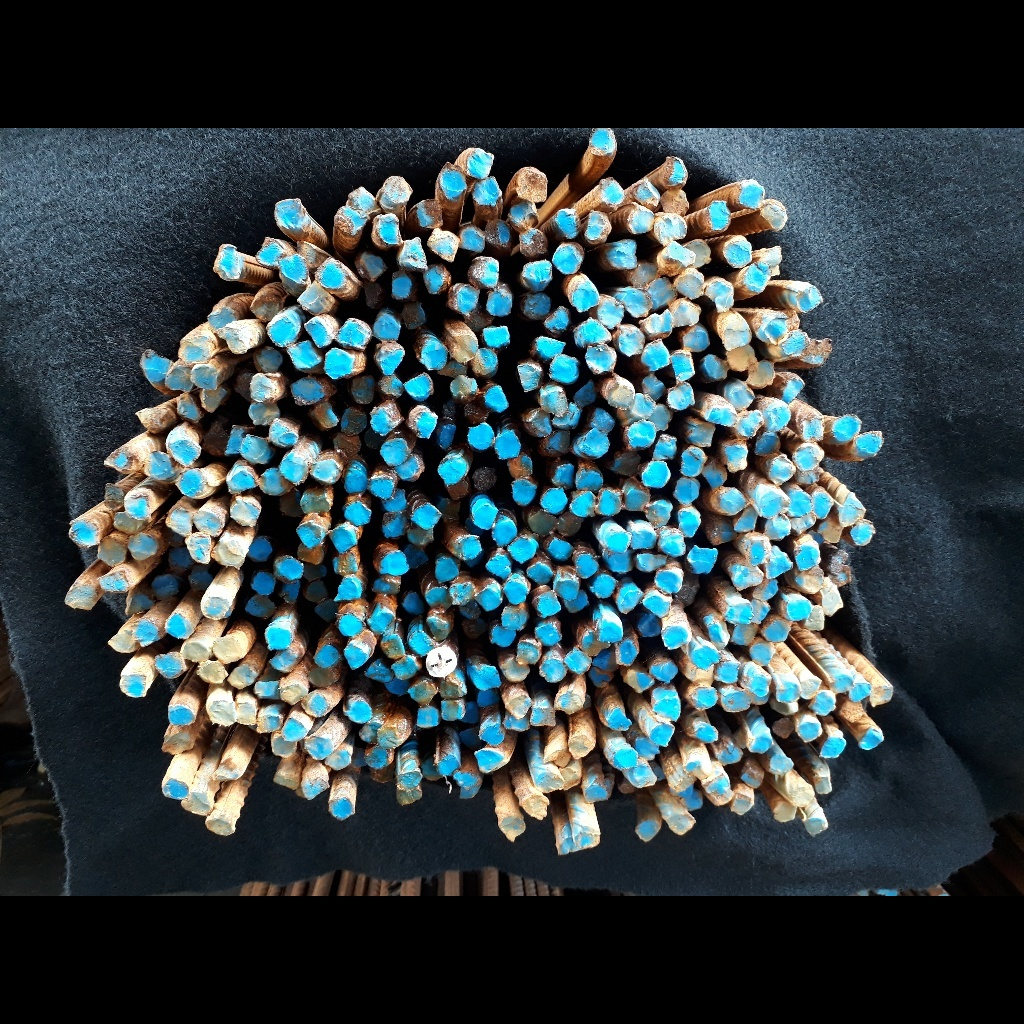dipstick: (215, 322, 257, 354), (296, 281, 335, 314), (209, 244, 243, 281), (335, 316, 372, 350), (657, 244, 697, 274), (427, 229, 460, 262), (605, 376, 635, 412), (175, 469, 212, 498), (140, 350, 170, 385), (286, 341, 322, 370), (574, 320, 612, 347), (568, 279, 600, 311), (705, 398, 738, 429), (397, 237, 428, 270), (266, 313, 297, 346), (763, 545, 793, 579), (517, 169, 547, 203), (381, 176, 416, 205), (757, 311, 788, 343), (470, 177, 502, 208), (428, 230, 459, 262), (274, 199, 305, 231), (549, 353, 579, 386), (317, 260, 347, 293), (138, 408, 175, 434), (674, 269, 705, 300), (522, 259, 553, 290), (184, 533, 215, 564), (654, 215, 686, 245), (705, 280, 735, 312), (607, 240, 639, 270), (578, 428, 610, 458), (291, 377, 324, 406), (617, 288, 651, 316), (538, 386, 568, 417), (373, 214, 403, 245), (170, 437, 201, 467), (639, 311, 671, 340), (552, 245, 584, 274), (418, 338, 447, 370), (618, 324, 645, 358), (596, 298, 626, 328), (438, 455, 468, 485), (146, 451, 177, 480), (124, 489, 153, 520), (669, 351, 697, 383), (304, 316, 332, 348), (584, 345, 617, 372), (293, 241, 326, 268), (277, 256, 310, 283), (800, 413, 829, 443), (626, 759, 655, 789), (509, 202, 539, 231), (519, 790, 549, 819), (427, 649, 457, 678), (689, 545, 717, 576), (614, 583, 642, 614), (584, 212, 612, 243), (473, 257, 501, 288), (178, 337, 209, 365), (259, 468, 290, 496), (706, 202, 733, 234), (732, 411, 764, 438), (274, 554, 306, 581), (577, 630, 610, 656), (534, 334, 568, 359), (641, 341, 670, 370), (465, 147, 494, 176), (256, 238, 285, 267), (279, 455, 308, 484), (740, 265, 770, 293), (831, 413, 861, 441), (702, 353, 730, 383), (555, 210, 583, 240), (532, 592, 562, 620), (508, 536, 538, 564), (336, 206, 364, 236), (231, 497, 259, 527), (760, 402, 791, 429), (745, 361, 776, 388), (193, 509, 224, 536), (296, 522, 327, 549), (228, 467, 260, 493), (406, 680, 439, 705), (730, 564, 764, 588), (625, 206, 654, 234), (628, 419, 656, 448), (644, 501, 673, 529), (520, 228, 548, 257), (523, 408, 552, 436), (528, 508, 557, 536), (440, 167, 468, 196), (330, 525, 358, 554), (725, 237, 752, 267), (803, 340, 833, 367), (517, 362, 544, 392), (325, 349, 352, 379), (242, 437, 272, 464), (380, 440, 410, 467), (127, 533, 157, 560), (723, 383, 754, 409), (669, 301, 700, 327), (154, 653, 185, 679), (771, 375, 806, 398), (251, 373, 276, 405), (686, 239, 714, 267), (853, 429, 881, 457), (458, 226, 486, 254), (166, 366, 194, 394), (367, 605, 395, 633), (661, 161, 690, 188), (781, 330, 808, 359), (722, 322, 751, 349), (451, 334, 478, 363), (484, 220, 511, 249), (254, 346, 283, 373), (334, 575, 363, 602), (727, 345, 757, 371), (471, 664, 501, 690), (495, 428, 521, 458), (755, 249, 786, 274), (681, 447, 706, 478), (161, 732, 196, 754), (107, 449, 139, 473), (643, 462, 671, 489), (623, 485, 651, 512), (628, 522, 656, 549), (455, 535, 483, 562), (470, 347, 497, 375), (423, 267, 451, 294), (357, 254, 384, 282), (191, 364, 219, 391), (167, 508, 194, 536), (252, 570, 279, 598), (270, 645, 298, 672), (794, 445, 823, 471), (648, 279, 674, 308), (483, 385, 509, 414), (347, 189, 376, 215), (374, 313, 400, 342), (525, 560, 555, 585), (350, 376, 375, 406), (380, 551, 410, 576), (722, 600, 753, 624), (164, 614, 195, 638), (594, 489, 621, 516), (554, 402, 581, 429), (99, 539, 126, 566), (662, 191, 690, 217), (794, 567, 822, 593), (565, 646, 591, 674), (522, 293, 550, 319), (403, 374, 431, 400), (417, 199, 443, 227), (377, 348, 405, 374), (723, 443, 748, 472), (447, 582, 476, 607), (310, 404, 339, 429), (365, 660, 394, 685), (597, 178, 627, 202), (449, 375, 479, 399), (201, 596, 231, 620), (678, 509, 701, 540), (624, 669, 655, 692), (767, 458, 794, 484), (838, 499, 865, 525), (689, 423, 716, 449), (732, 620, 758, 647), (649, 722, 676, 748), (628, 393, 655, 419), (589, 409, 615, 436), (547, 427, 574, 453), (491, 519, 517, 546), (435, 557, 461, 584), (468, 423, 494, 450), (133, 619, 160, 645), (208, 699, 235, 725), (282, 716, 309, 742), (682, 326, 710, 351), (200, 387, 228, 412), (269, 421, 297, 446), (278, 578, 303, 606), (591, 575, 620, 599), (605, 549, 634, 573), (251, 296, 280, 320), (372, 408, 396, 437), (214, 638, 243, 662), (629, 265, 659, 288), (858, 724, 884, 750), (662, 624, 688, 650), (540, 488, 566, 514), (502, 577, 528, 603), (487, 290, 513, 316), (470, 467, 496, 493), (849, 519, 874, 546), (668, 385, 695, 410), (674, 480, 699, 507), (573, 826, 600, 851), (500, 816, 527, 841), (797, 286, 825, 310), (745, 537, 769, 565), (643, 593, 671, 617), (500, 606, 528, 630), (177, 394, 201, 422), (300, 492, 332, 513), (501, 657, 530, 680), (412, 505, 441, 528), (820, 586, 842, 616), (709, 521, 739, 543), (612, 453, 642, 475), (249, 403, 279, 425), (98, 572, 128, 594), (305, 737, 335, 759), (740, 184, 766, 209), (762, 202, 787, 228), (786, 492, 812, 517), (760, 494, 786, 519), (701, 462, 727, 487), (721, 688, 747, 713), (670, 811, 696, 836), (400, 305, 426, 330), (341, 409, 366, 435), (153, 573, 178, 599), (169, 549, 195, 574), (343, 642, 368, 668), (588, 131, 615, 155), (795, 542, 819, 569), (809, 691, 836, 715), (765, 516, 792, 540), (755, 433, 782, 457), (707, 623, 731, 650), (655, 570, 682, 594), (655, 433, 679, 460), (616, 640, 640, 667), (605, 707, 632, 731), (572, 383, 599, 407), (575, 552, 599, 579), (535, 622, 562, 646), (539, 659, 566, 683), (425, 583, 449, 610), (513, 479, 537, 506), (377, 375, 404, 399), (341, 471, 365, 498), (344, 502, 371, 526), (219, 540, 246, 564), (120, 675, 147, 699), (163, 777, 190, 801), (825, 545, 848, 573), (596, 620, 624, 643), (416, 411, 439, 439), (228, 665, 256, 688), (818, 736, 847, 758), (474, 749, 503, 771), (489, 625, 518, 647), (391, 656, 420, 678), (694, 720, 719, 745), (504, 694, 529, 719), (472, 504, 497, 529), (455, 287, 480, 312), (802, 604, 826, 630), (786, 597, 812, 621), (669, 773, 693, 799), (654, 696, 680, 720), (658, 533, 684, 557), (636, 551, 662, 575), (570, 492, 596, 516), (312, 459, 338, 483), (408, 631, 434, 655), (377, 725, 404, 748), (749, 597, 771, 625), (649, 403, 671, 431), (208, 308, 236, 330), (200, 662, 228, 684), (280, 681, 308, 703), (235, 697, 257, 725), (454, 769, 483, 790), (302, 779, 331, 800), (204, 817, 236, 836), (691, 644, 716, 668), (508, 454, 533, 478), (395, 455, 419, 480), (383, 512, 407, 537), (826, 564, 852, 587), (604, 528, 630, 551), (346, 699, 372, 722), (169, 703, 195, 726), (751, 577, 778, 599), (634, 737, 661, 759), (577, 470, 604, 492), (335, 433, 362, 455), (303, 694, 330, 716), (437, 421, 458, 449), (365, 747, 394, 767), (245, 597, 274, 617), (776, 677, 800, 701), (750, 642, 774, 666), (552, 465, 576, 489), (486, 555, 510, 579), (248, 537, 272, 561), (382, 634, 406, 658), (871, 684, 894, 709), (692, 689, 717, 712), (583, 780, 608, 803), (516, 641, 539, 666), (187, 568, 212, 591), (314, 644, 339, 667), (416, 703, 439, 728), (184, 791, 209, 814), (811, 493, 833, 519), (763, 620, 789, 642), (719, 489, 745, 511), (736, 505, 758, 531), (651, 662, 677, 684), (638, 615, 664, 637), (547, 538, 573, 560), (333, 552, 359, 574), (77, 519, 98, 546), (255, 713, 282, 734), (816, 521, 844, 541), (536, 772, 564, 792), (296, 544, 324, 564), (848, 682, 872, 705), (643, 375, 666, 399), (570, 736, 594, 759), (545, 307, 568, 331), (436, 754, 460, 777), (399, 766, 423, 789), (730, 792, 752, 817), (439, 677, 464, 699), (429, 615, 451, 640), (266, 627, 291, 649), (361, 722, 386, 744), (330, 798, 355, 820), (748, 733, 774, 754), (714, 662, 740, 683), (704, 773, 730, 794), (612, 748, 638, 769), (557, 693, 583, 714), (483, 326, 509, 347), (392, 276, 413, 302), (371, 477, 397, 498), (113, 511, 139, 532), (110, 631, 136, 652), (685, 662, 713, 681), (747, 674, 770, 697), (306, 581, 329, 604), (679, 789, 703, 811), (560, 513, 581, 538), (530, 706, 555, 727), (383, 490, 408, 511), (310, 667, 335, 688), (797, 721, 823, 741), (545, 748, 571, 768), (403, 546, 429, 566), (325, 749, 351, 769), (683, 760, 710, 779), (444, 480, 471, 499), (104, 483, 123, 510), (205, 465, 228, 487), (716, 746, 744, 764), (742, 767, 766, 788), (564, 591, 588, 612), (441, 701, 465, 722), (477, 589, 501, 610), (225, 427, 243, 455), (338, 614, 362, 635), (217, 759, 241, 780), (374, 576, 399, 596), (256, 680, 281, 700), (479, 726, 505, 745), (407, 527, 436, 544), (788, 515, 815, 533), (590, 669, 617, 687), (791, 785, 813, 807), (800, 677, 821, 700), (773, 801, 796, 822), (315, 600, 338, 621), (635, 821, 659, 841), (182, 642, 206, 662), (397, 786, 421, 806), (475, 689, 500, 708), (76, 587, 95, 612), (403, 592, 424, 614), (387, 674, 410, 694), (304, 562, 331, 579), (829, 675, 853, 694), (771, 700, 801, 715), (273, 773, 298, 791), (773, 718, 794, 739), (459, 726, 480, 747), (769, 755, 792, 774), (559, 767, 578, 790), (504, 714, 531, 730), (813, 774, 833, 795), (371, 766, 395, 783), (424, 758, 440, 783), (594, 651, 615, 670), (782, 310, 800, 332), (805, 818, 828, 835), (458, 703, 478, 722), (795, 470, 820, 485), (556, 834, 575, 853), (708, 791, 732, 806), (460, 601, 481, 618), (749, 691, 770, 706)
